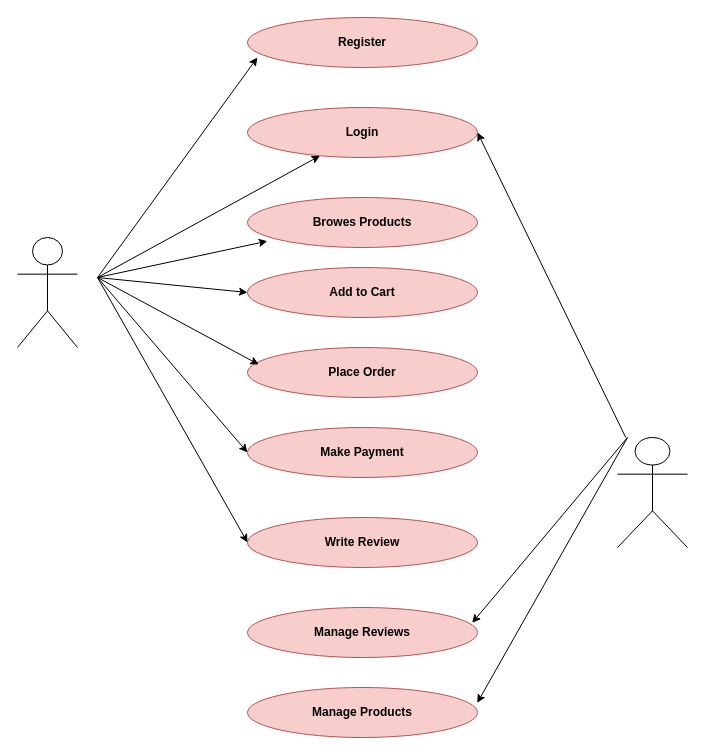
Some shapes in this 705 by 755 pixel diagram are drawn without their labels. Here are the shapes that lost their labels. From the top down, the centre of each, then its label:
[47,292]: Customer
[652,492]: Admin
